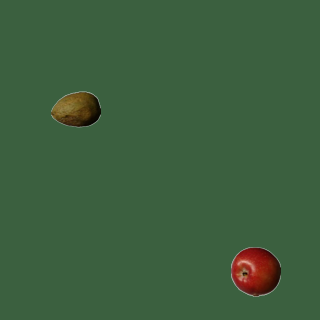Apple Braeburn: (230, 246, 280, 296)
Papaya: (50, 84, 100, 134)
